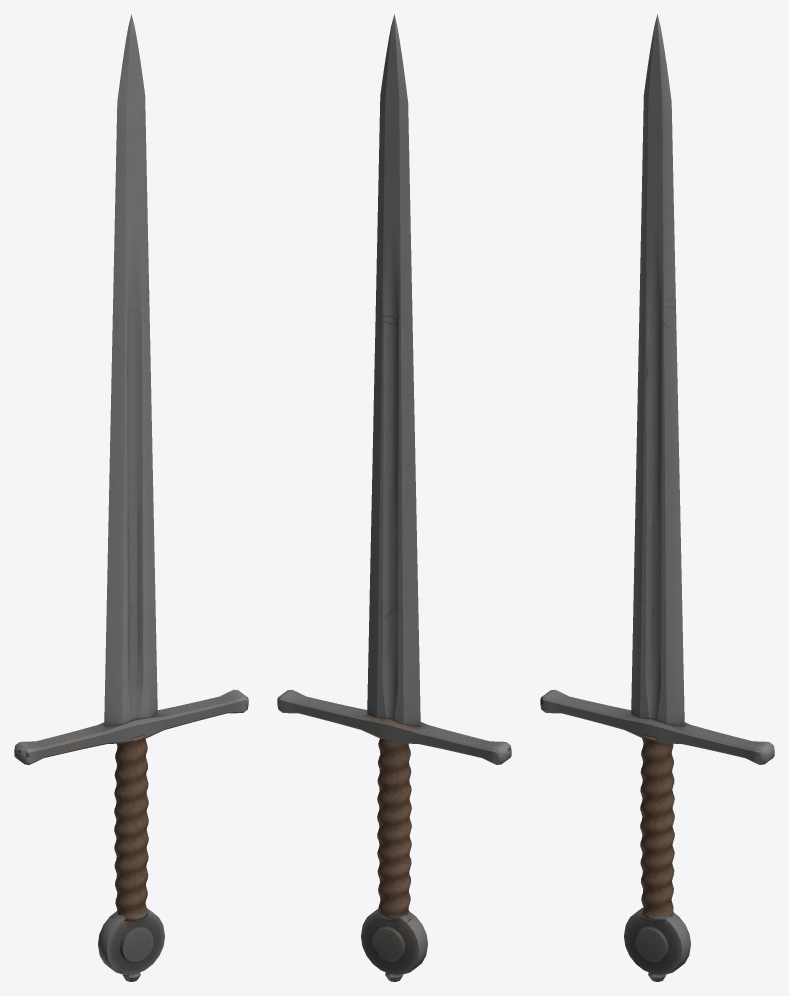
The model's file is longsword.glb.
3 views of the same model, side by side, from view 1: azimuth 30°, elevation 25°; view 2: azimuth 150°, elevation 25°; view 3: azimuth 330°, elevation 25° (orthographic).
Visible parts, largest first — view 1: longsword; view 2: longsword; view 3: longsword.
Part boxes in pixels (x1,y1,x2,y2): longsword: (14,14,248,981); longsword: (277,14,511,981); longsword: (540,14,774,981).
Size of the model in its own units: 0.6 by 2.41 by 0.0674.
Materials: 1 (1 with a texture image).
